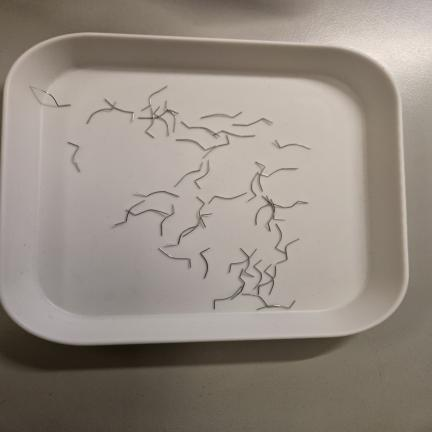probe: (174, 162, 203, 187), (159, 248, 191, 268), (208, 192, 247, 203), (195, 160, 210, 188), (68, 142, 80, 172), (275, 139, 311, 149), (149, 86, 167, 106), (200, 111, 242, 119), (232, 118, 273, 126), (200, 248, 210, 278), (136, 191, 179, 197), (142, 108, 146, 111)
